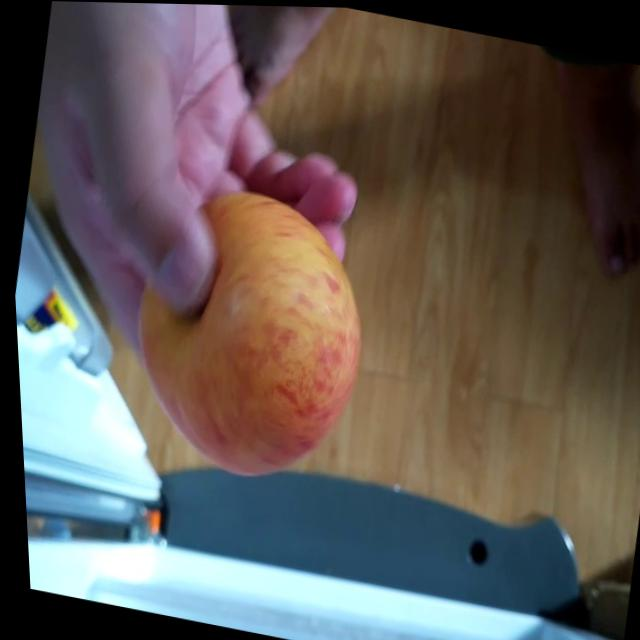apple: (103, 169, 391, 498)
